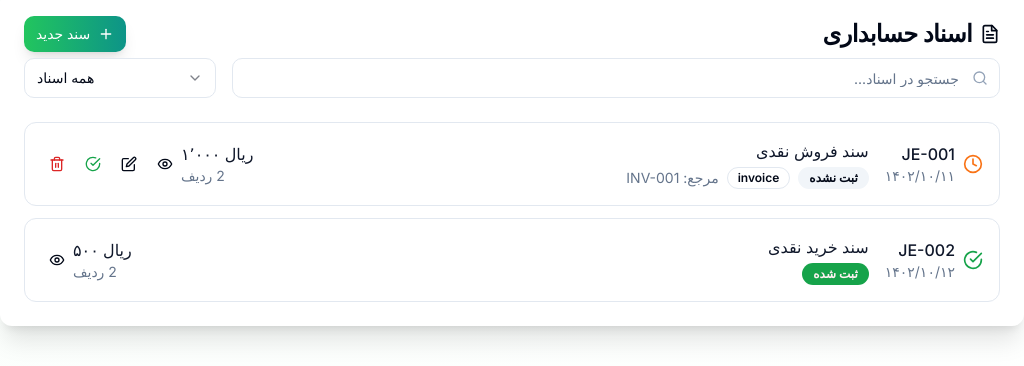
Test case: JournalEntries › should filter entries by search term
This screenshot has width=1024, height=366.
Check: the text "JE-001" is shown, box [902,144,955,164]
Note: Search for specific entry
Type "فروش" into the field with placeholder "جستجو در اسناد..." at (616, 78), box [232,58,1000,98]
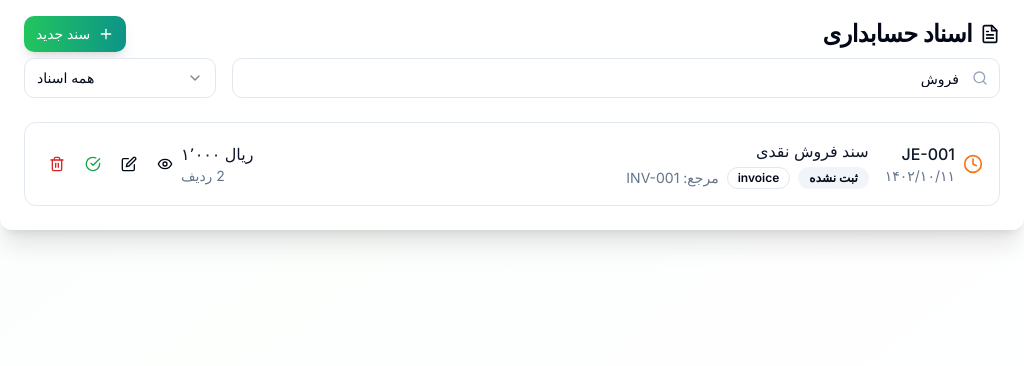
Check: the text "سند فروش نقدی" is shown, box [756,141,869,161]
Check: the text "سند خرید نقدی" is gone
